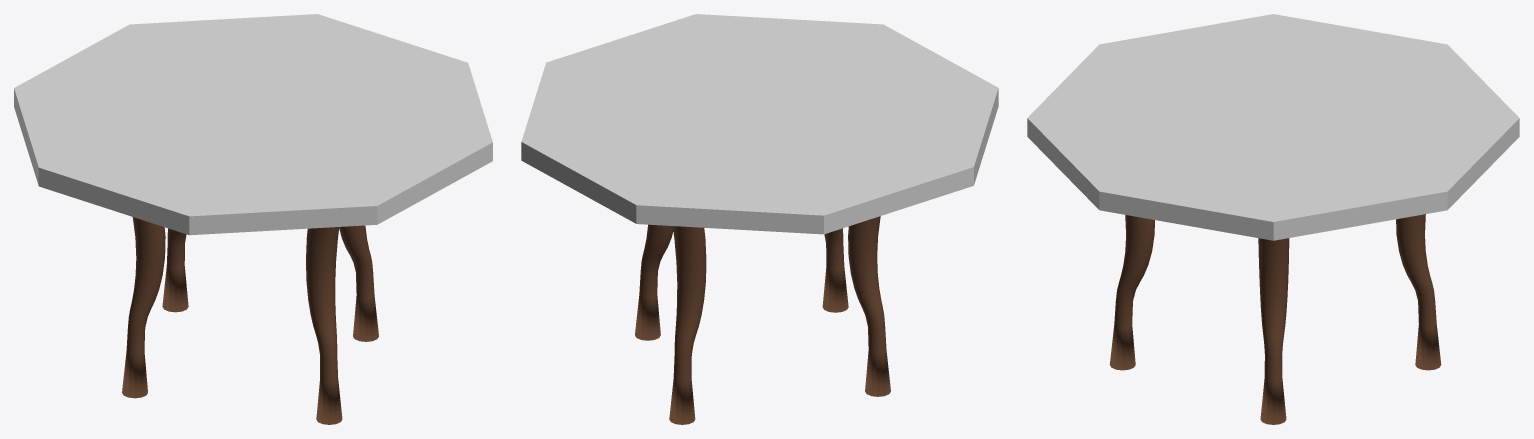
The model's file is Table.glb.
3 views of the same model, side by side, from view 1: azimuth 30°, elevation 25°; view 2: azimuth 150°, elevation 25°; view 3: azimuth 270°, elevation 25° (orthographic).
Visible parts, largest first — view 1: Table.009; view 2: Table.009; view 3: Table.009.
Boxes of the visible parts, left/top/right/bottom form: Table.009: left=14, top=14, right=492, bottom=424; Table.009: left=521, top=14, right=998, bottom=424; Table.009: left=1027, top=14, right=1519, bottom=424.
Size of the model in its own units: 16.57 by 9.17 by 16.57.
